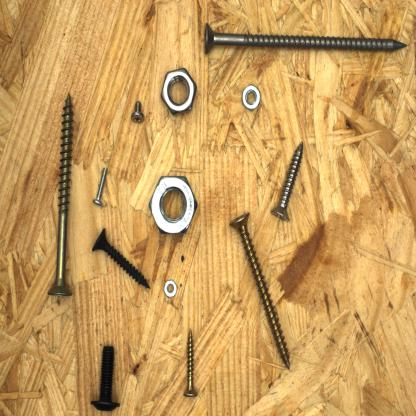screw: (226, 209, 298, 375), (202, 17, 410, 60), (44, 90, 75, 302), (88, 224, 157, 293), (267, 138, 307, 226), (85, 340, 127, 416), (180, 325, 200, 400), (91, 162, 110, 209), (128, 97, 147, 129)
